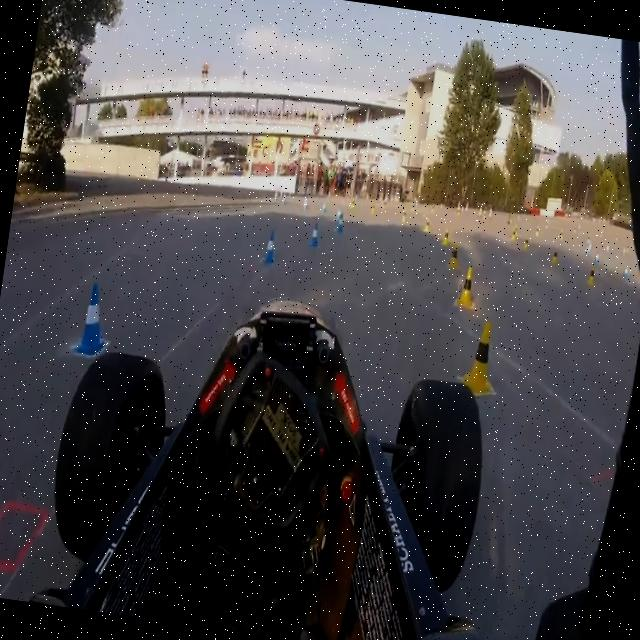blue_cone: (69, 278, 115, 360), (259, 225, 281, 270), (307, 220, 323, 250), (334, 213, 345, 235), (621, 264, 630, 284), (334, 202, 343, 220), (592, 252, 601, 268), (302, 198, 310, 212), (584, 244, 590, 258), (322, 202, 328, 214)
yellow_cone: (458, 318, 502, 398), (454, 264, 480, 312), (448, 242, 462, 270), (584, 265, 596, 288), (440, 227, 451, 248), (422, 216, 432, 234), (551, 250, 559, 266), (522, 236, 530, 252), (534, 224, 542, 238), (402, 210, 408, 224), (350, 197, 356, 210), (512, 229, 518, 241), (370, 204, 376, 215)
